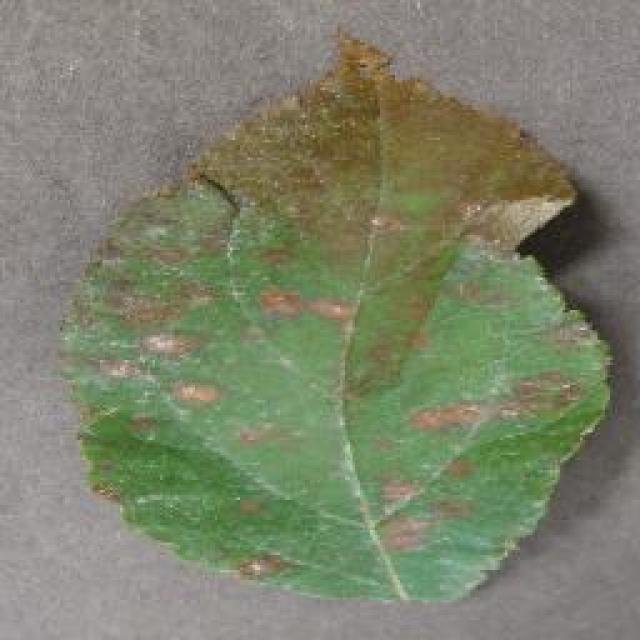Apple___Cedar_apple_rust: (54, 20, 619, 615)
